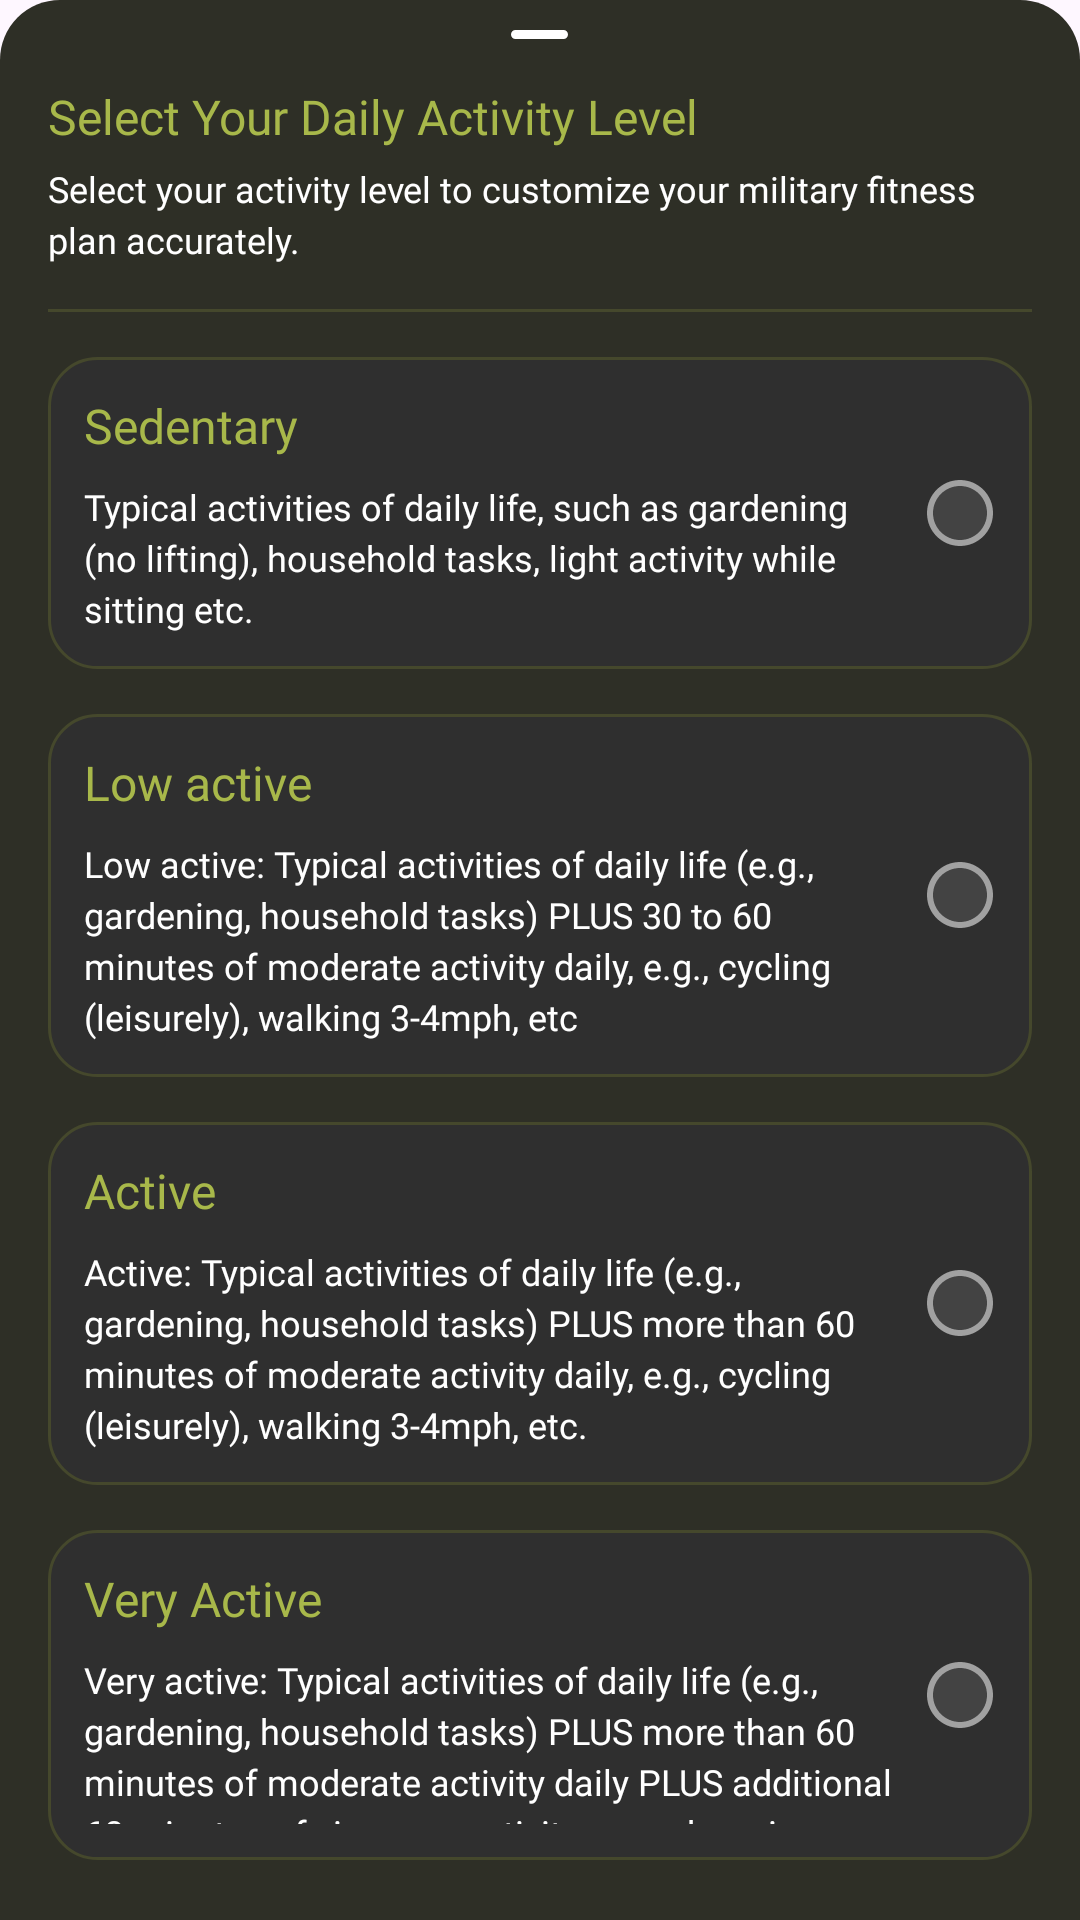

Icons on this 1080 x 1920 Android screen, each with the point to tap as point (x, y):
empty: point (960, 513), point (960, 895), point (960, 1303), point (960, 1695)
